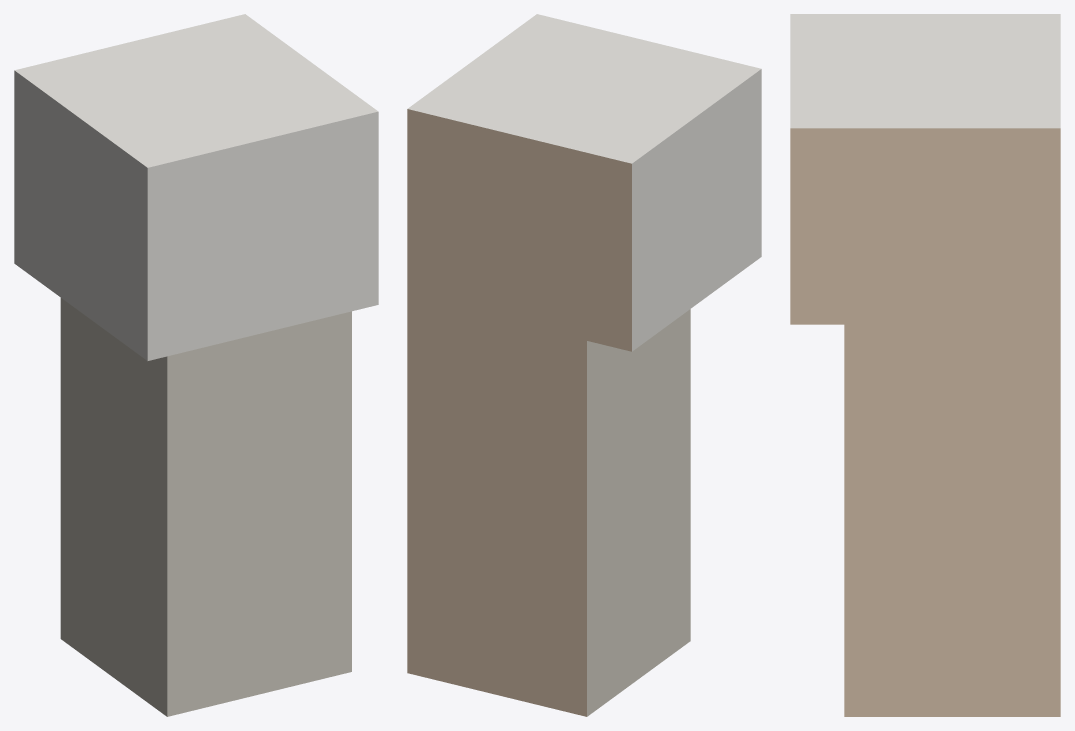
The model's file is Tiered_Retaining_Wall_Corner_Outer_1x1_Top.glb.
The picture shows the model from 3 angles, left to right: view 1: azimuth 30°, elevation 25°; view 2: azimuth 150°, elevation 25°; view 3: azimuth 270°, elevation 25°; orthographic projection. The views are drawn at different scales.
Parts seen in each view (by area): view 1: Tiered_Retaining_Wall_Corner_Outer_1x1_Top; view 2: Tiered_Retaining_Wall_Corner_Outer_1x1_Top; view 3: Tiered_Retaining_Wall_Corner_Outer_1x1_Top.
Part boxes in pixels (x1,y1,x2,y2): Tiered_Retaining_Wall_Corner_Outer_1x1_Top: (14,14,378,716); Tiered_Retaining_Wall_Corner_Outer_1x1_Top: (407,14,761,716); Tiered_Retaining_Wall_Corner_Outer_1x1_Top: (790,14,1060,716).
Size of the model in its own units: 15.62 by 37.5 by 15.63.
